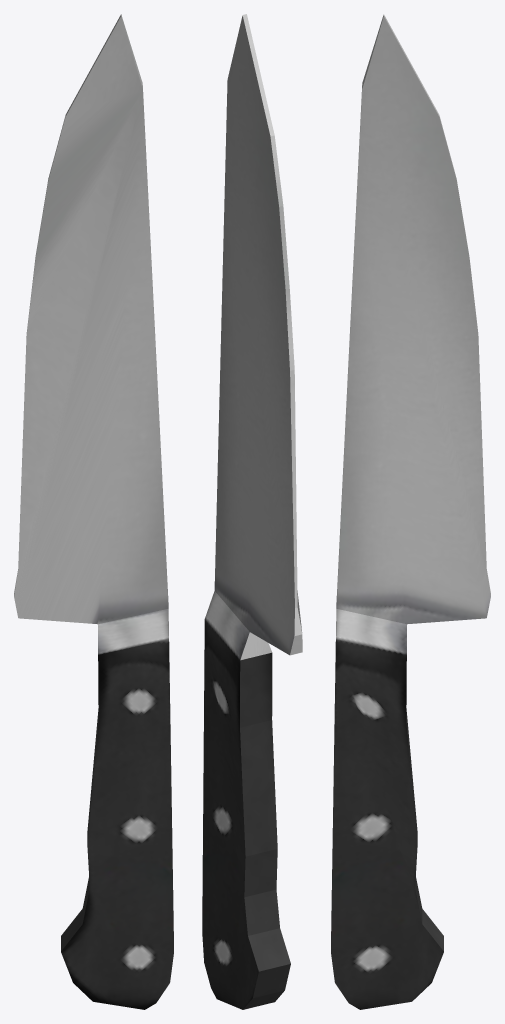
The model's file is Knife.fbx.
3 views of the same model, side by side, from view 1: azimuth 90°, elevation 25°; view 2: azimuth 210°, elevation 25°; view 3: azimuth 270°, elevation 25° (orthographic).
Visible parts, largest first — view 1: Knife; view 2: Knife; view 3: Knife.
Part boxes in pixels (<box>): Knife: <box>14,14,173,1009</box>; Knife: <box>202,14,302,1009</box>; Knife: <box>331,14,490,1009</box>.
Size of the model in its own units: 0.1424 by 4.18 by 0.6139.
Materials: 1 (1 with a texture image).
